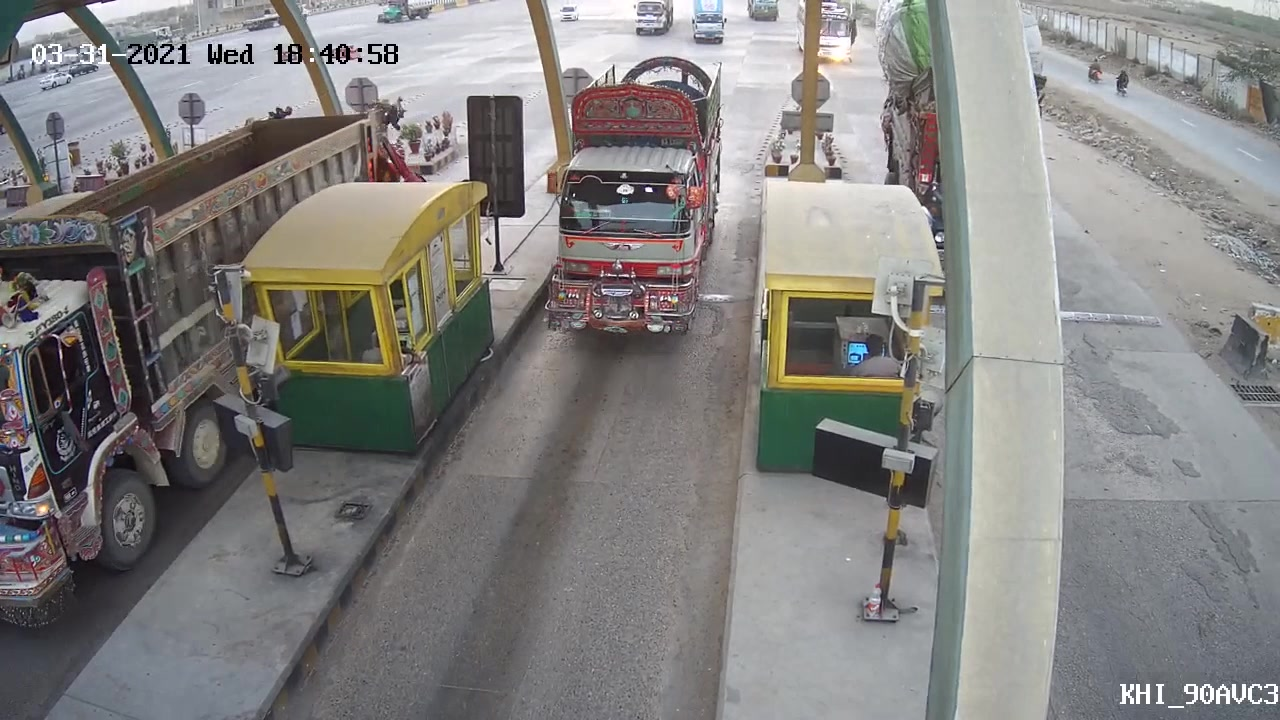F5: (535, 54, 734, 342)
